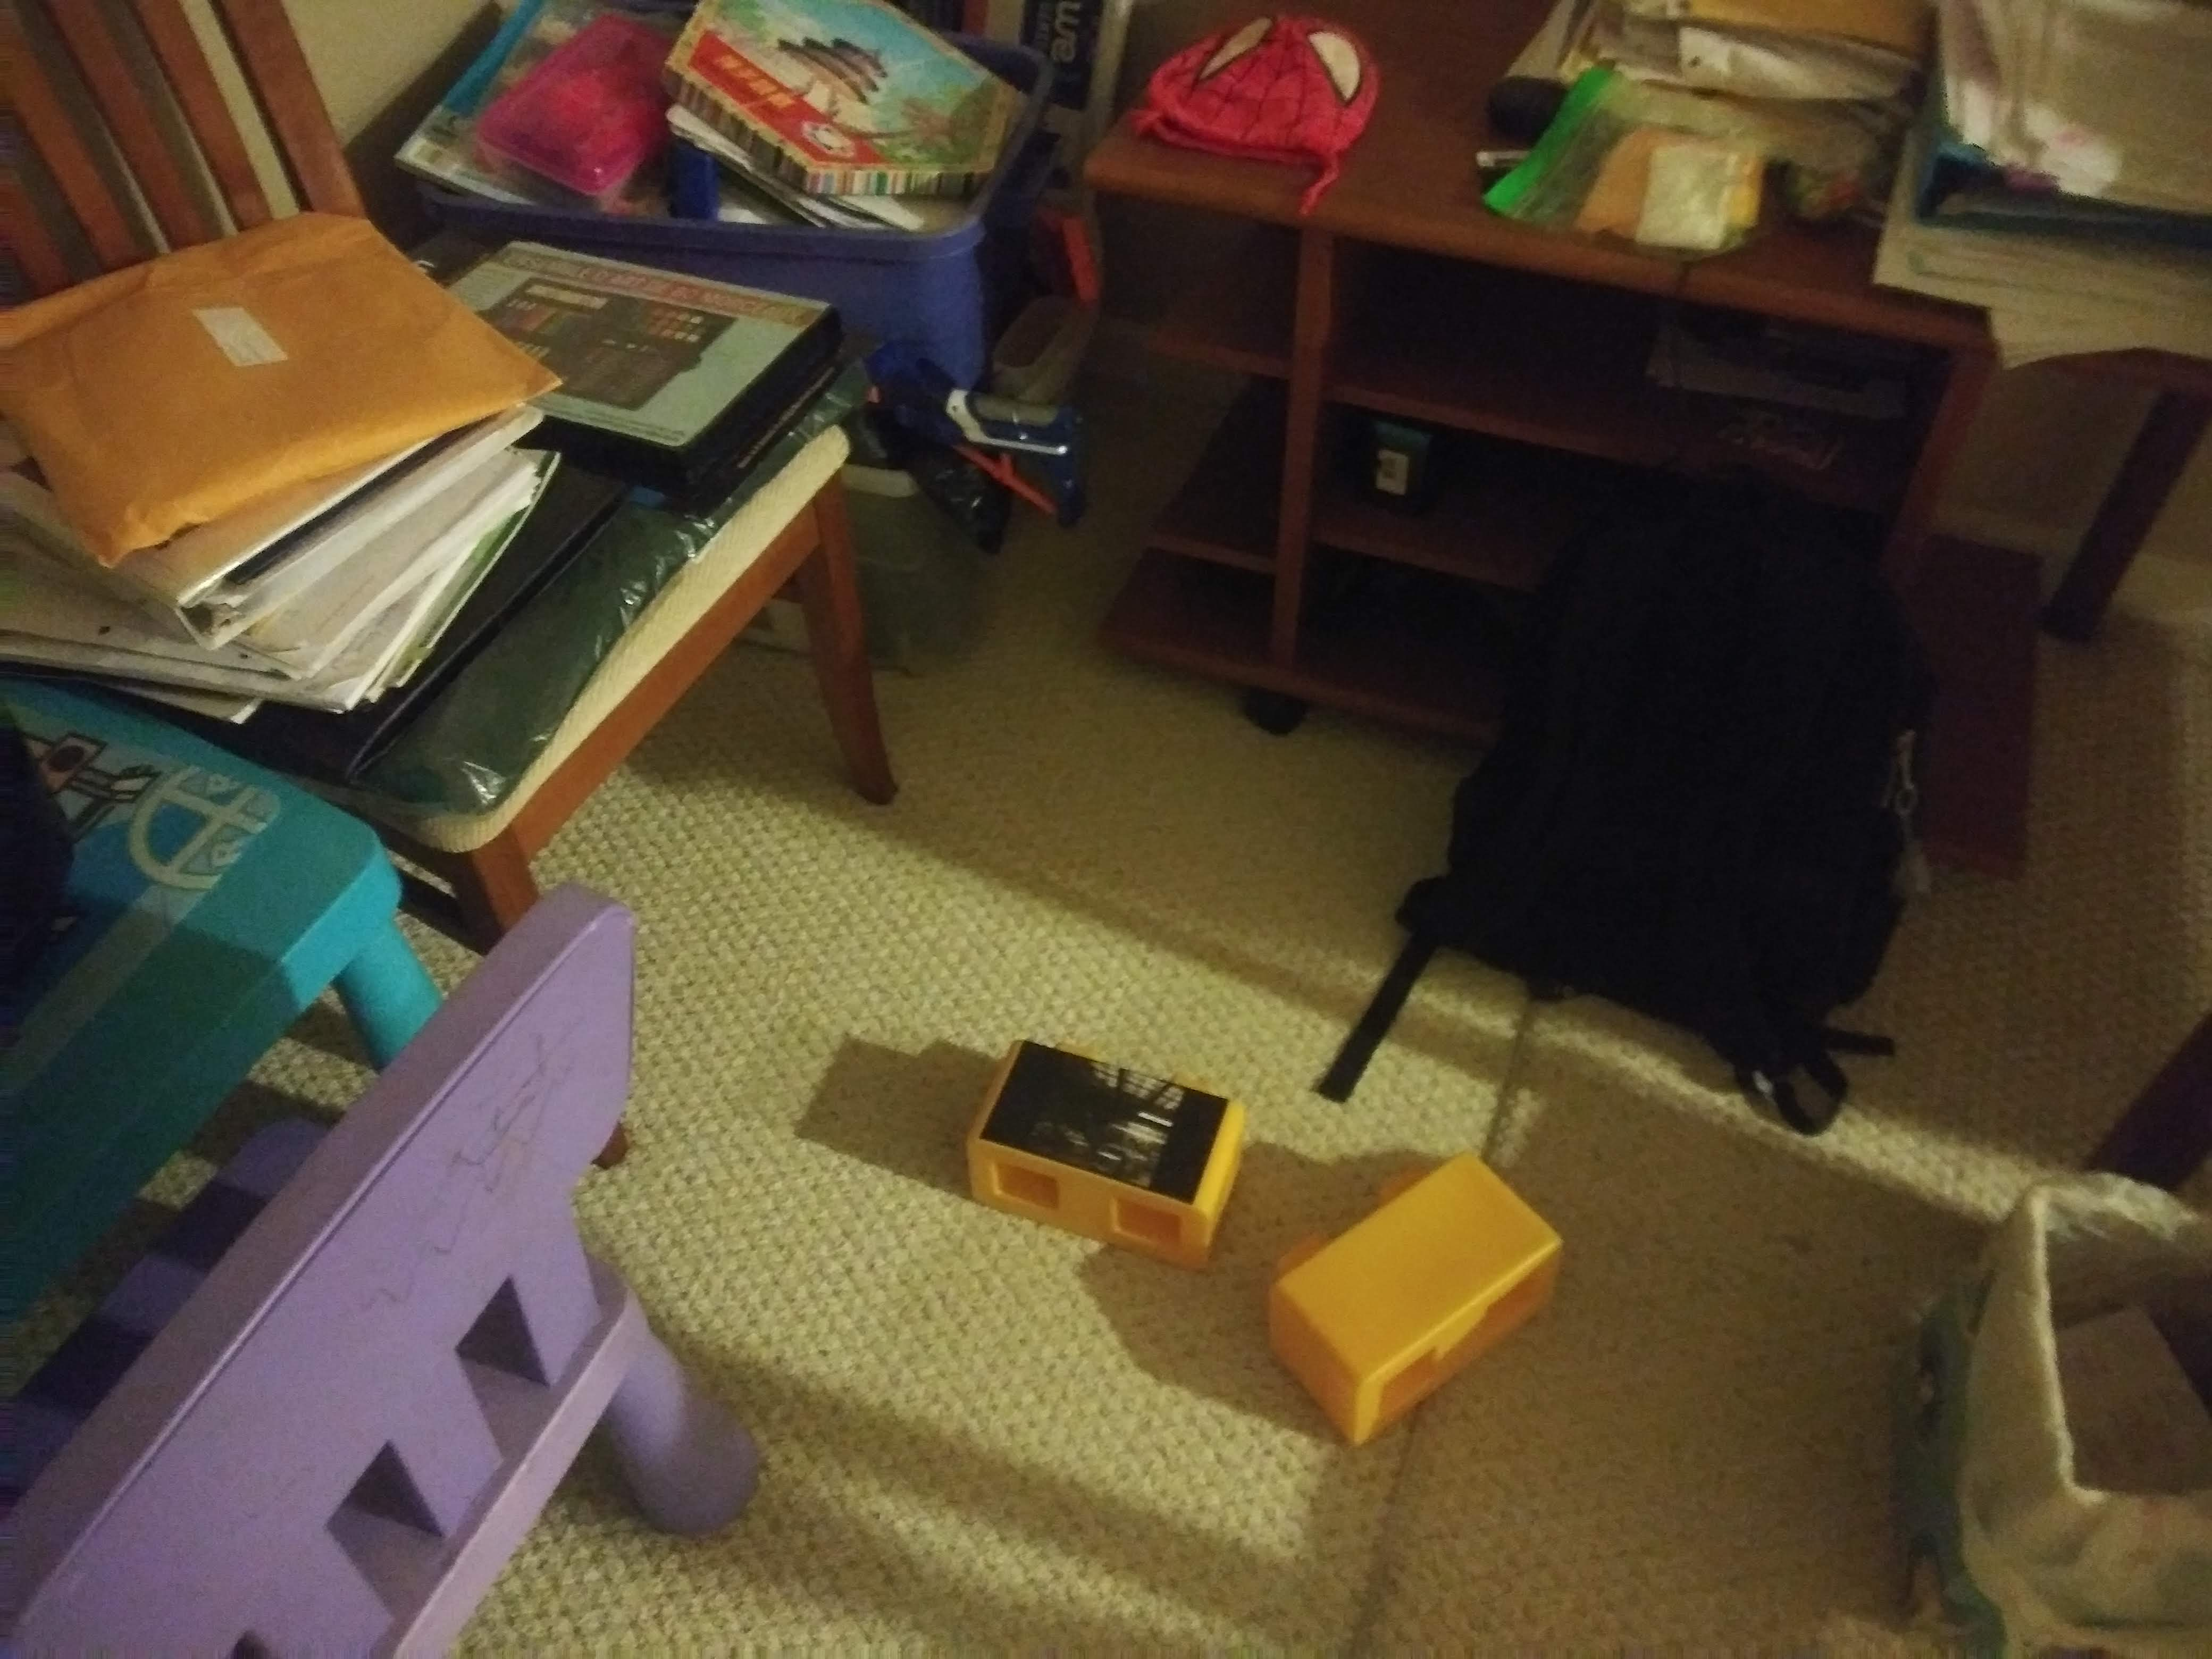skystone: (972, 1039, 1233, 1246)
stone: (1296, 1182, 1540, 1392)
